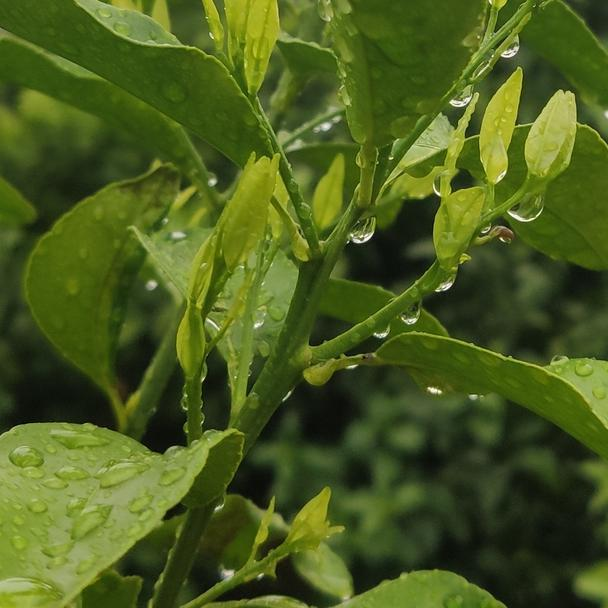shoot: (426, 90, 581, 252), (171, 153, 278, 372), (238, 490, 349, 581)
